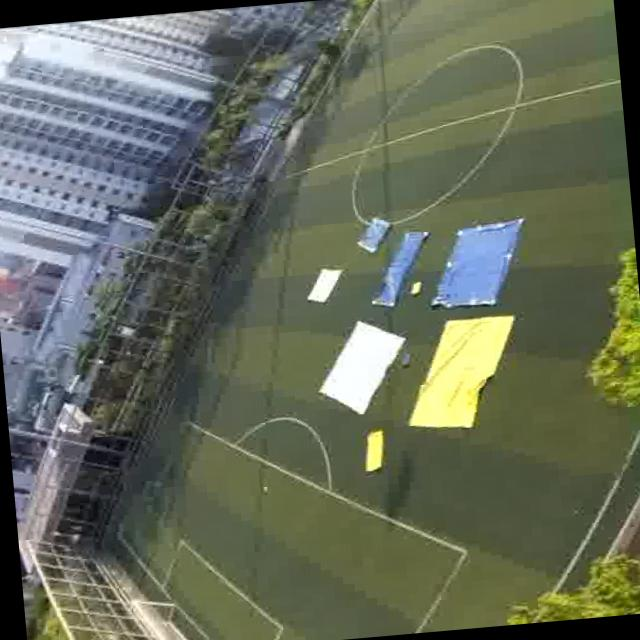danger: (437, 212, 534, 306), (346, 212, 396, 260), (365, 261, 406, 311)
safety: (316, 320, 402, 412), (303, 262, 350, 308)
warning: (412, 314, 525, 430), (358, 424, 392, 474)
